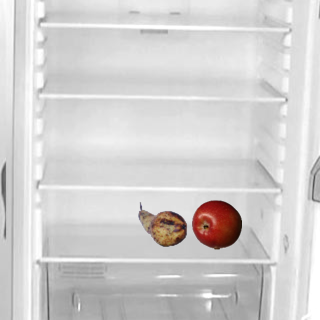Apple Braeburn: (191, 199, 241, 249)
Pear Abate: (137, 199, 187, 249)
